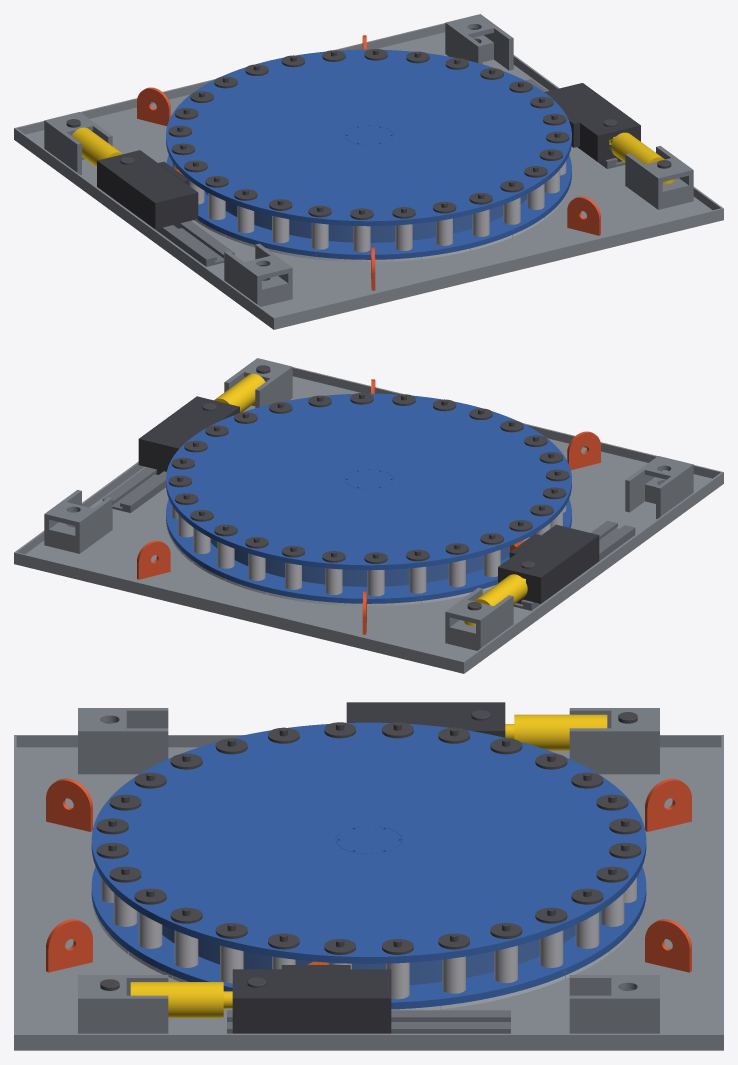
3 views of the same model, one above another, from view 1: azimuth 30°, elevation 25°; view 2: azimuth 150°, elevation 25°; view 3: azimuth 270°, elevation 25° (orthographic). The views are drawn at different scales.
Visible parts, largest first — view 1: TT300C-MES-001-C Plancha superior de la mesa, TT300C-BAS-001-C Plancha base, TT300C-MES-002-C Anillo superior de pasadores, TT300C-ACC-003-C PatÃn guiado, TT300C-BAS-005-C Mejilla de mÃ©nsula, TT300C-MES-013-C Perno ISO 4762 M20Ã45 con arandela, TT300C-BAS-003-C Marco perimetral largo, TT300C-MES-004-C Anillo inferior de pasadores, TT300C-MES-012-C Pasador de empuje, TT300C-BAS-004-C Marco perimetral corto, TT300C-MES-007-C Alma anular R840, TT300C-IZA-001-C Oreja de izaje (+7 smaller); view 2: TT300C-MES-001-C Plancha superior de la mesa, TT300C-BAS-001-C Plancha base, TT300C-MES-002-C Anillo superior de pasadores, TT300C-ACC-003-C PatÃn guiado, TT300C-BAS-005-C Mejilla de mÃ©nsula, TT300C-MES-013-C Perno ISO 4762 M20Ã45 con arandela, TT300C-BAS-003-C Marco perimetral largo, TT300C-MES-004-C Anillo inferior de pasadores, TT300C-MES-012-C Pasador de empuje, TT300C-BAS-004-C Marco perimetral corto, TT300C-ACC-001-C Bancada de guÃa con ranura T, TT300C-MES-007-C Alma anular R840 (+7 smaller); view 3: TT300C-MES-001-C Plancha superior de la mesa, TT300C-BAS-001-C Plancha base, TT300C-MES-002-C Anillo superior de pasadores, TT300C-BAS-005-C Mejilla de mÃ©nsula, TT300C-ACC-003-C PatÃn guiado, TT300C-MES-013-C Perno ISO 4762 M20Ã45 con arandela, TT300C-BAS-004-C Marco perimetral corto, TT300C-MES-004-C Anillo inferior de pasadores, TT300C-MES-012-C Pasador de empuje, TT300C-IZA-001-C Oreja de izaje, TT300C-ACC-002-C Cilindro hidrÃ¡ulico doble efecto, TT300C-MES-007-C Alma anular R840 (+6 smaller).
Boxes of the visible parts, x1,y1,x2,y2 form: TT300C-MES-001-C Plancha superior de la mesa: (194,61,543,209); TT300C-BAS-001-C Plancha base: (14,32,723,329); TT300C-MES-002-C Anillo superior de pasadores: (166,49,571,226); TT300C-ACC-003-C PatÃn guiado: (97,83,640,229); TT300C-BAS-005-C Mejilla de mÃ©nsula: (44,14,693,306); TT300C-MES-013-C Perno ISO 4762 M20Ã45 con arandela: (168,49,569,219); TT300C-BAS-003-C Marco perimetral largo: (14,23,723,326); TT300C-MES-004-C Anillo inferior de pasadores: (166,155,571,259); TT300C-MES-012-C Pasador de empuje: (171,161,566,252); TT300C-BAS-004-C Marco perimetral corto: (15,28,722,325); TT300C-MES-007-C Alma anular R840: (204,191,527,242); TT300C-IZA-001-C Oreja de izaje: (137,35,600,290); TT300C-MES-001-C Plancha superior de la mesa: (194,405,543,553); TT300C-BAS-001-C Plancha base: (14,376,723,673); TT300C-MES-002-C Anillo superior de pasadores: (166,393,571,570); TT300C-ACC-003-C PatÃn guiado: (138,396,599,603); TT300C-BAS-005-C Mejilla de mÃ©nsula: (44,358,693,650); TT300C-MES-013-C Perno ISO 4762 M20Ã45 con arandela: (168,393,569,563); TT300C-BAS-003-C Marco perimetral largo: (14,367,723,670); TT300C-MES-004-C Anillo inferior de pasadores: (166,499,571,603); TT300C-MES-012-C Pasador de empuje: (171,505,566,596); TT300C-BAS-004-C Marco perimetral corto: (15,461,722,669); TT300C-ACC-001-C Bancada de guÃa con ranura T: (102,467,635,610); TT300C-MES-007-C Alma anular R840: (210,535,532,586); TT300C-MES-001-C Plancha superior de la mesa: (130,739,607,940); TT300C-BAS-001-C Plancha base: (14,747,723,1050); TT300C-MES-002-C Anillo superior de pasadores: (91,722,646,963); TT300C-BAS-005-C Mejilla de mÃ©nsula: (78,708,659,1033); TT300C-ACC-003-C PatÃn guiado: (232,702,505,1033); TT300C-MES-013-C Perno ISO 4762 M20Ã45 con arandela: (96,722,641,954); TT300C-BAS-004-C Marco perimetral corto: (16,735,721,1046); TT300C-MES-004-C Anillo inferior de pasadores: (91,867,646,1009); TT300C-MES-012-C Pasador de empuje: (101,877,636,999); TT300C-IZA-001-C Oreja de izaje: (46,778,691,972); TT300C-ACC-002-C Cilindro hidrÃ¡ulico doble efecto: (130,714,607,1017); TT300C-MES-007-C Alma anular R840: (162,925,575,984).
Size of the model in its own units: 2560 by 272 by 2560.
